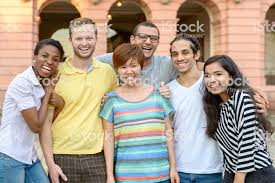person: (198, 57, 256, 149), (111, 44, 167, 121), (62, 19, 114, 92), (18, 38, 68, 105), (164, 40, 210, 105)
